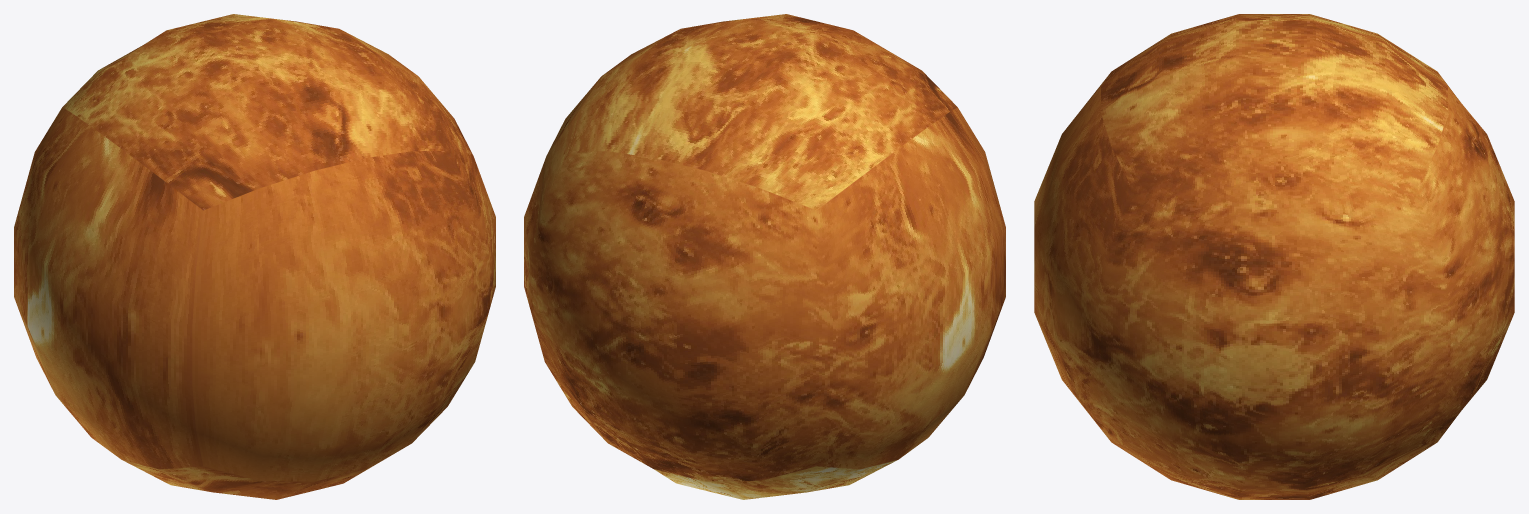
File: venus.glb
3 views of the same model, side by side, from view 1: azimuth 30°, elevation 25°; view 2: azimuth 150°, elevation 25°; view 3: azimuth 270°, elevation 25° (orthographic).
Visible parts, largest first — view 1: ActualVenus; view 2: ActualVenus; view 3: ActualVenus.
Boxes of the visible parts, x1,y1,x2,y2 form: ActualVenus: [14, 14, 495, 499]; ActualVenus: [524, 14, 1005, 499]; ActualVenus: [1034, 14, 1514, 499].
Bounding box in the file's own units: 3.36 × 3.36 × 3.36.
1 material, 1 textured.
